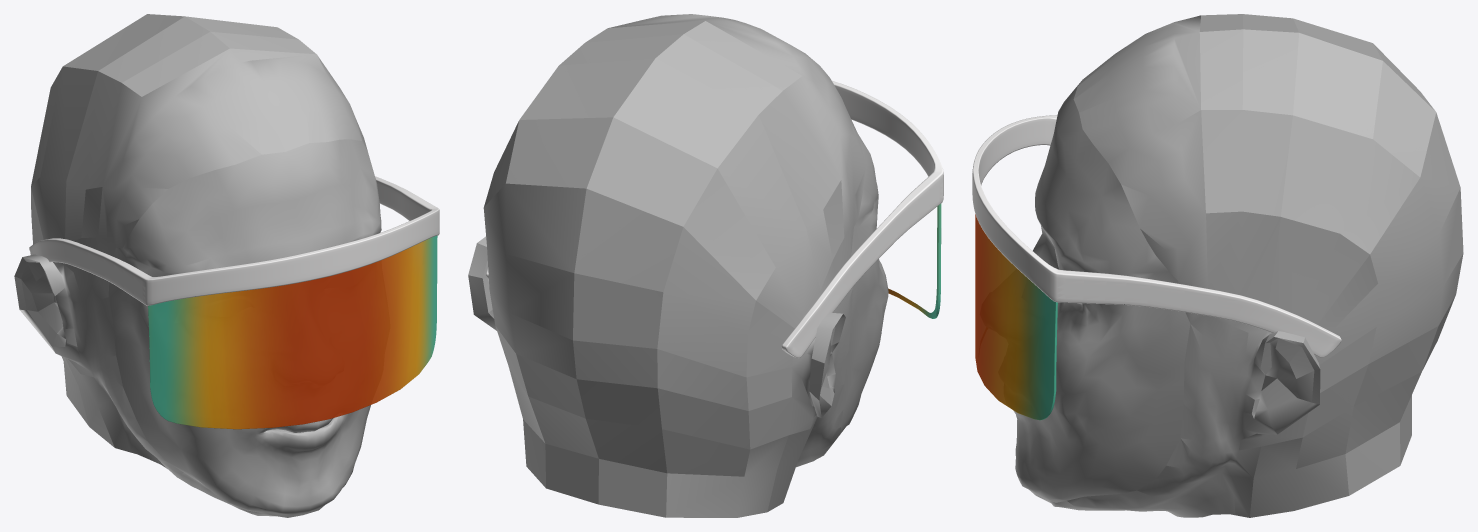
File: glasses2.glb
3 renders of one model, left to right at view 1: azimuth 30°, elevation 25°; view 2: azimuth 150°, elevation 25°; view 3: azimuth 270°, elevation 25°, orthographic. The views are drawn at different scales.
Parts seen in each view (by area): view 1: Occluder, lensGeo.001, frameGeo.001; view 2: Occluder, frameGeo.001, lensGeo.001; view 3: Occluder, frameGeo.001, lensGeo.001.
Part boxes in pixels (x1,y1,x2,y2): Occluder: [14, 14, 381, 517]; lensGeo.001: [148, 235, 437, 429]; frameGeo.001: [29, 176, 439, 305]; Occluder: [468, 14, 888, 517]; frameGeo.001: [486, 81, 943, 358]; lensGeo.001: [888, 203, 941, 318]; Occluder: [1013, 14, 1463, 517]; frameGeo.001: [972, 115, 1341, 357]; lensGeo.001: [975, 214, 1057, 420].
Bounding box in the file's own units: 0.1841 × 0.2347 × 0.221.
3 materials, 2 textured.
